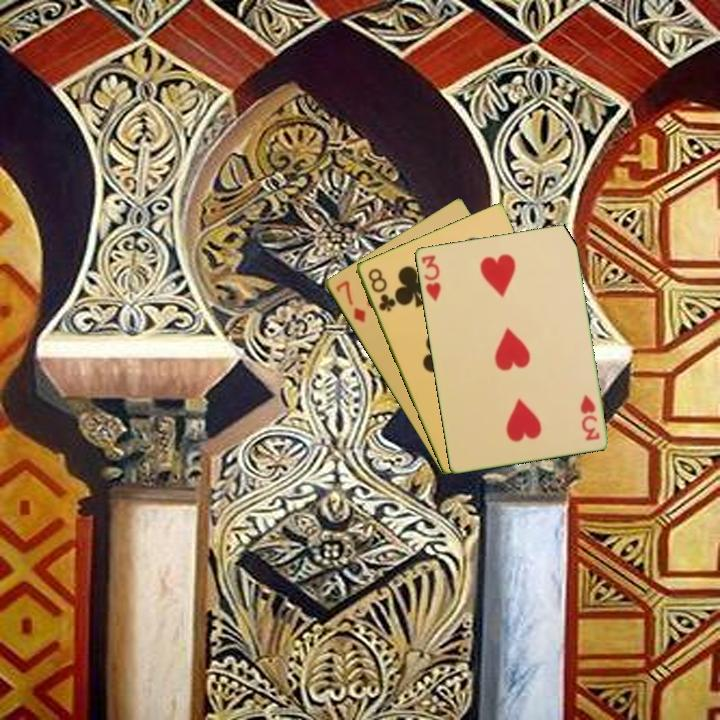3h: (417, 251, 443, 304), (576, 391, 602, 443)
7d: (331, 276, 368, 325)
8c: (364, 264, 398, 315)
